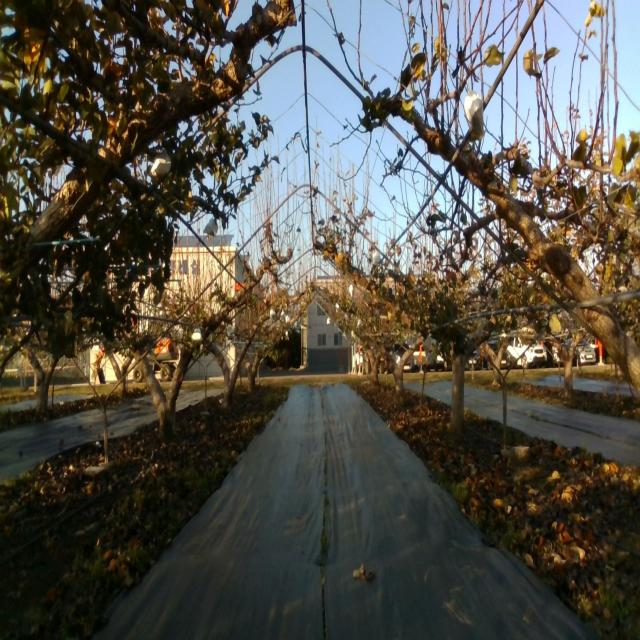pearbags: (464, 91, 485, 140), (147, 148, 172, 178), (202, 218, 219, 236)
